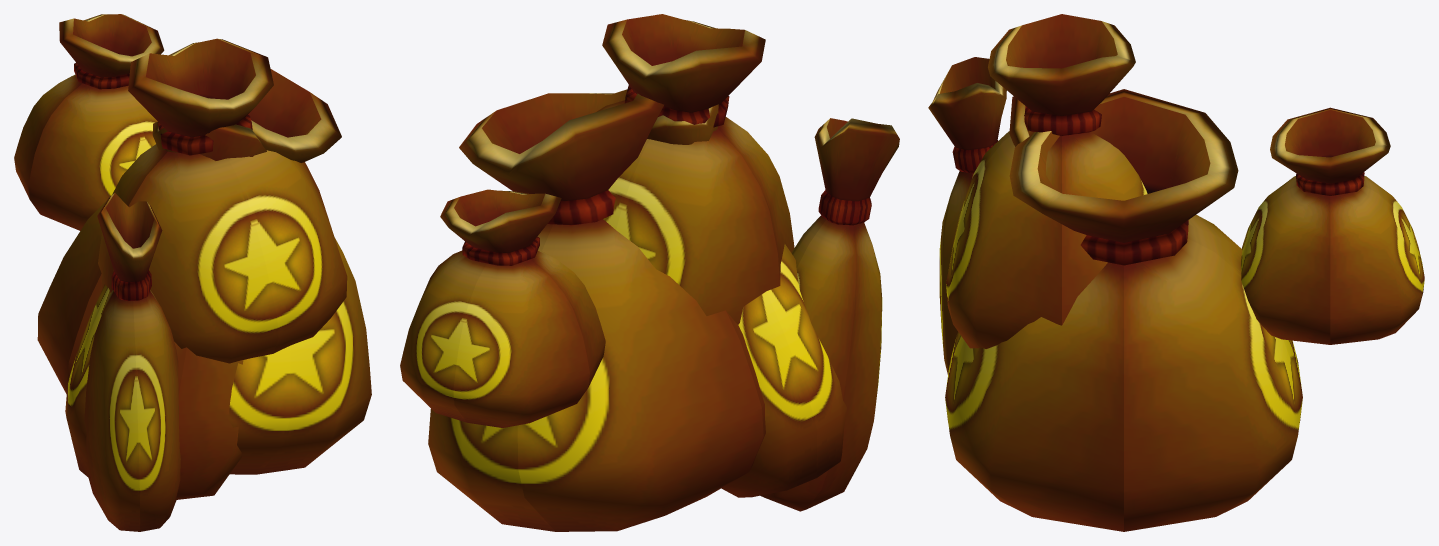
File: Jackpot.glb
3 renders of one model, left to right at view 1: azimuth 30°, elevation 25°; view 2: azimuth 150°, elevation 25°; view 3: azimuth 270°, elevation 25°, orthographic. The views are drawn at different scales.
Visible parts, largest first — view 1: MoneyBag:moneyBag, moneyBag, moneyBag3, moneyBag1, moneyBag2; view 2: moneyBag, MoneyBag:moneyBag, moneyBag1, moneyBag3, moneyBag2; view 3: moneyBag, MoneyBag:moneyBag, moneyBag1, moneyBag3, moneyBag2.
Boxes of the visible parts, x1=… form: MoneyBag:moneyBag: x1=98, y1=38, x2=347, y2=363; moneyBag: x1=37, y1=69, x2=371, y2=474; moneyBag3: x1=84, y1=193, x2=180, y2=531; moneyBag1: x1=14, y1=14, x2=164, y2=230; moneyBag2: x1=65, y1=121, x2=266, y2=499; moneyBag: x1=428, y1=89, x2=765, y2=531; MoneyBag:moneyBag: x1=597, y1=14, x2=794, y2=324; moneyBag1: x1=400, y1=189, x2=605, y2=427; moneyBag3: x1=760, y1=118, x2=899, y2=511; moneyBag2: x1=647, y1=104, x2=846, y2=497; moneyBag: x1=945, y1=89, x2=1302, y2=531; MoneyBag:moneyBag: x1=946, y1=14, x2=1147, y2=348; moneyBag1: x1=1241, y1=107, x2=1424, y2=344; moneyBag3: x1=928, y1=57, x2=1006, y2=374; moneyBag2: x1=1009, y1=96, x2=1029, y2=146.
Size of the model in its own units: 0.041 by 0.053 by 0.0532.
Materials: 1 (1 with a texture image).
